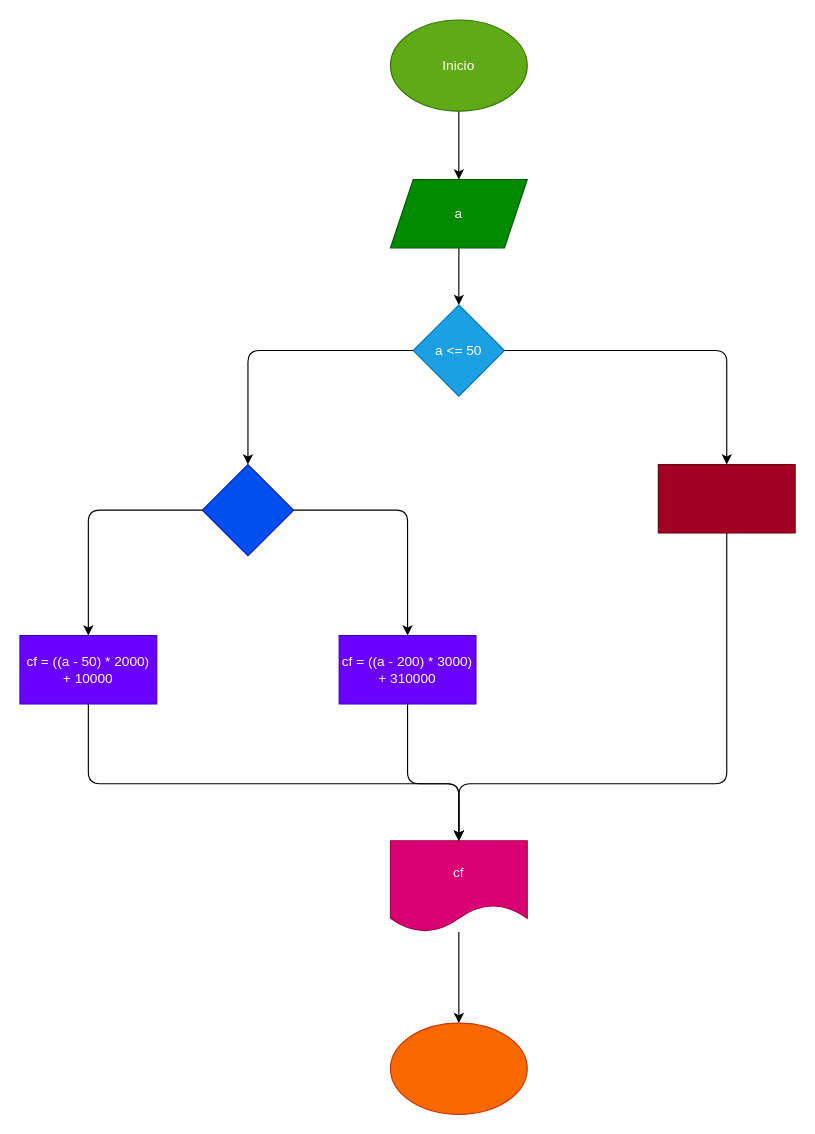
Image size: 815x1134. Some labels were removed from this diagram. The centre of each missing label's shape, as x and y in pixels:
"50 < a < 200" belongs at point 247,509.
"cf = 10000" belongs at point 726,498.
"Fin" belongs at point 458,1068.
